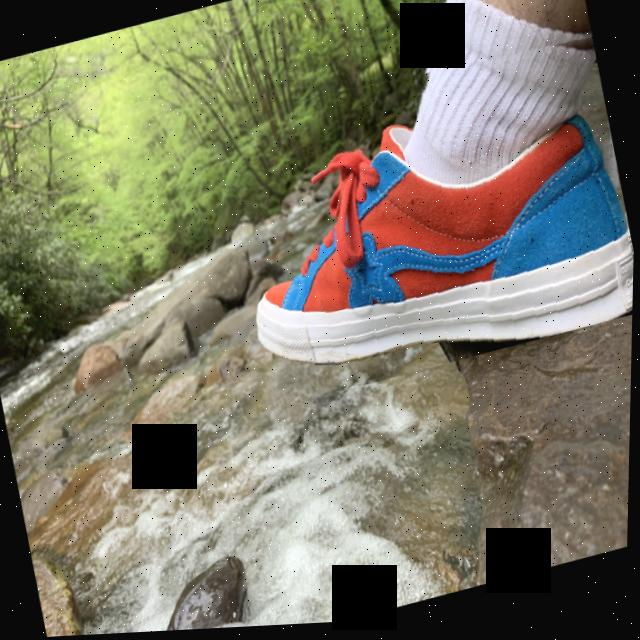shoe: (204, 24, 639, 416)
